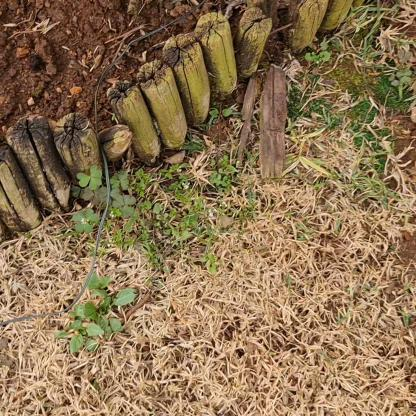Weeds: (72, 287, 137, 335), (53, 321, 106, 355), (71, 207, 104, 235), (77, 165, 105, 190), (111, 194, 137, 219), (85, 273, 110, 298), (83, 185, 108, 205), (111, 172, 132, 192)
